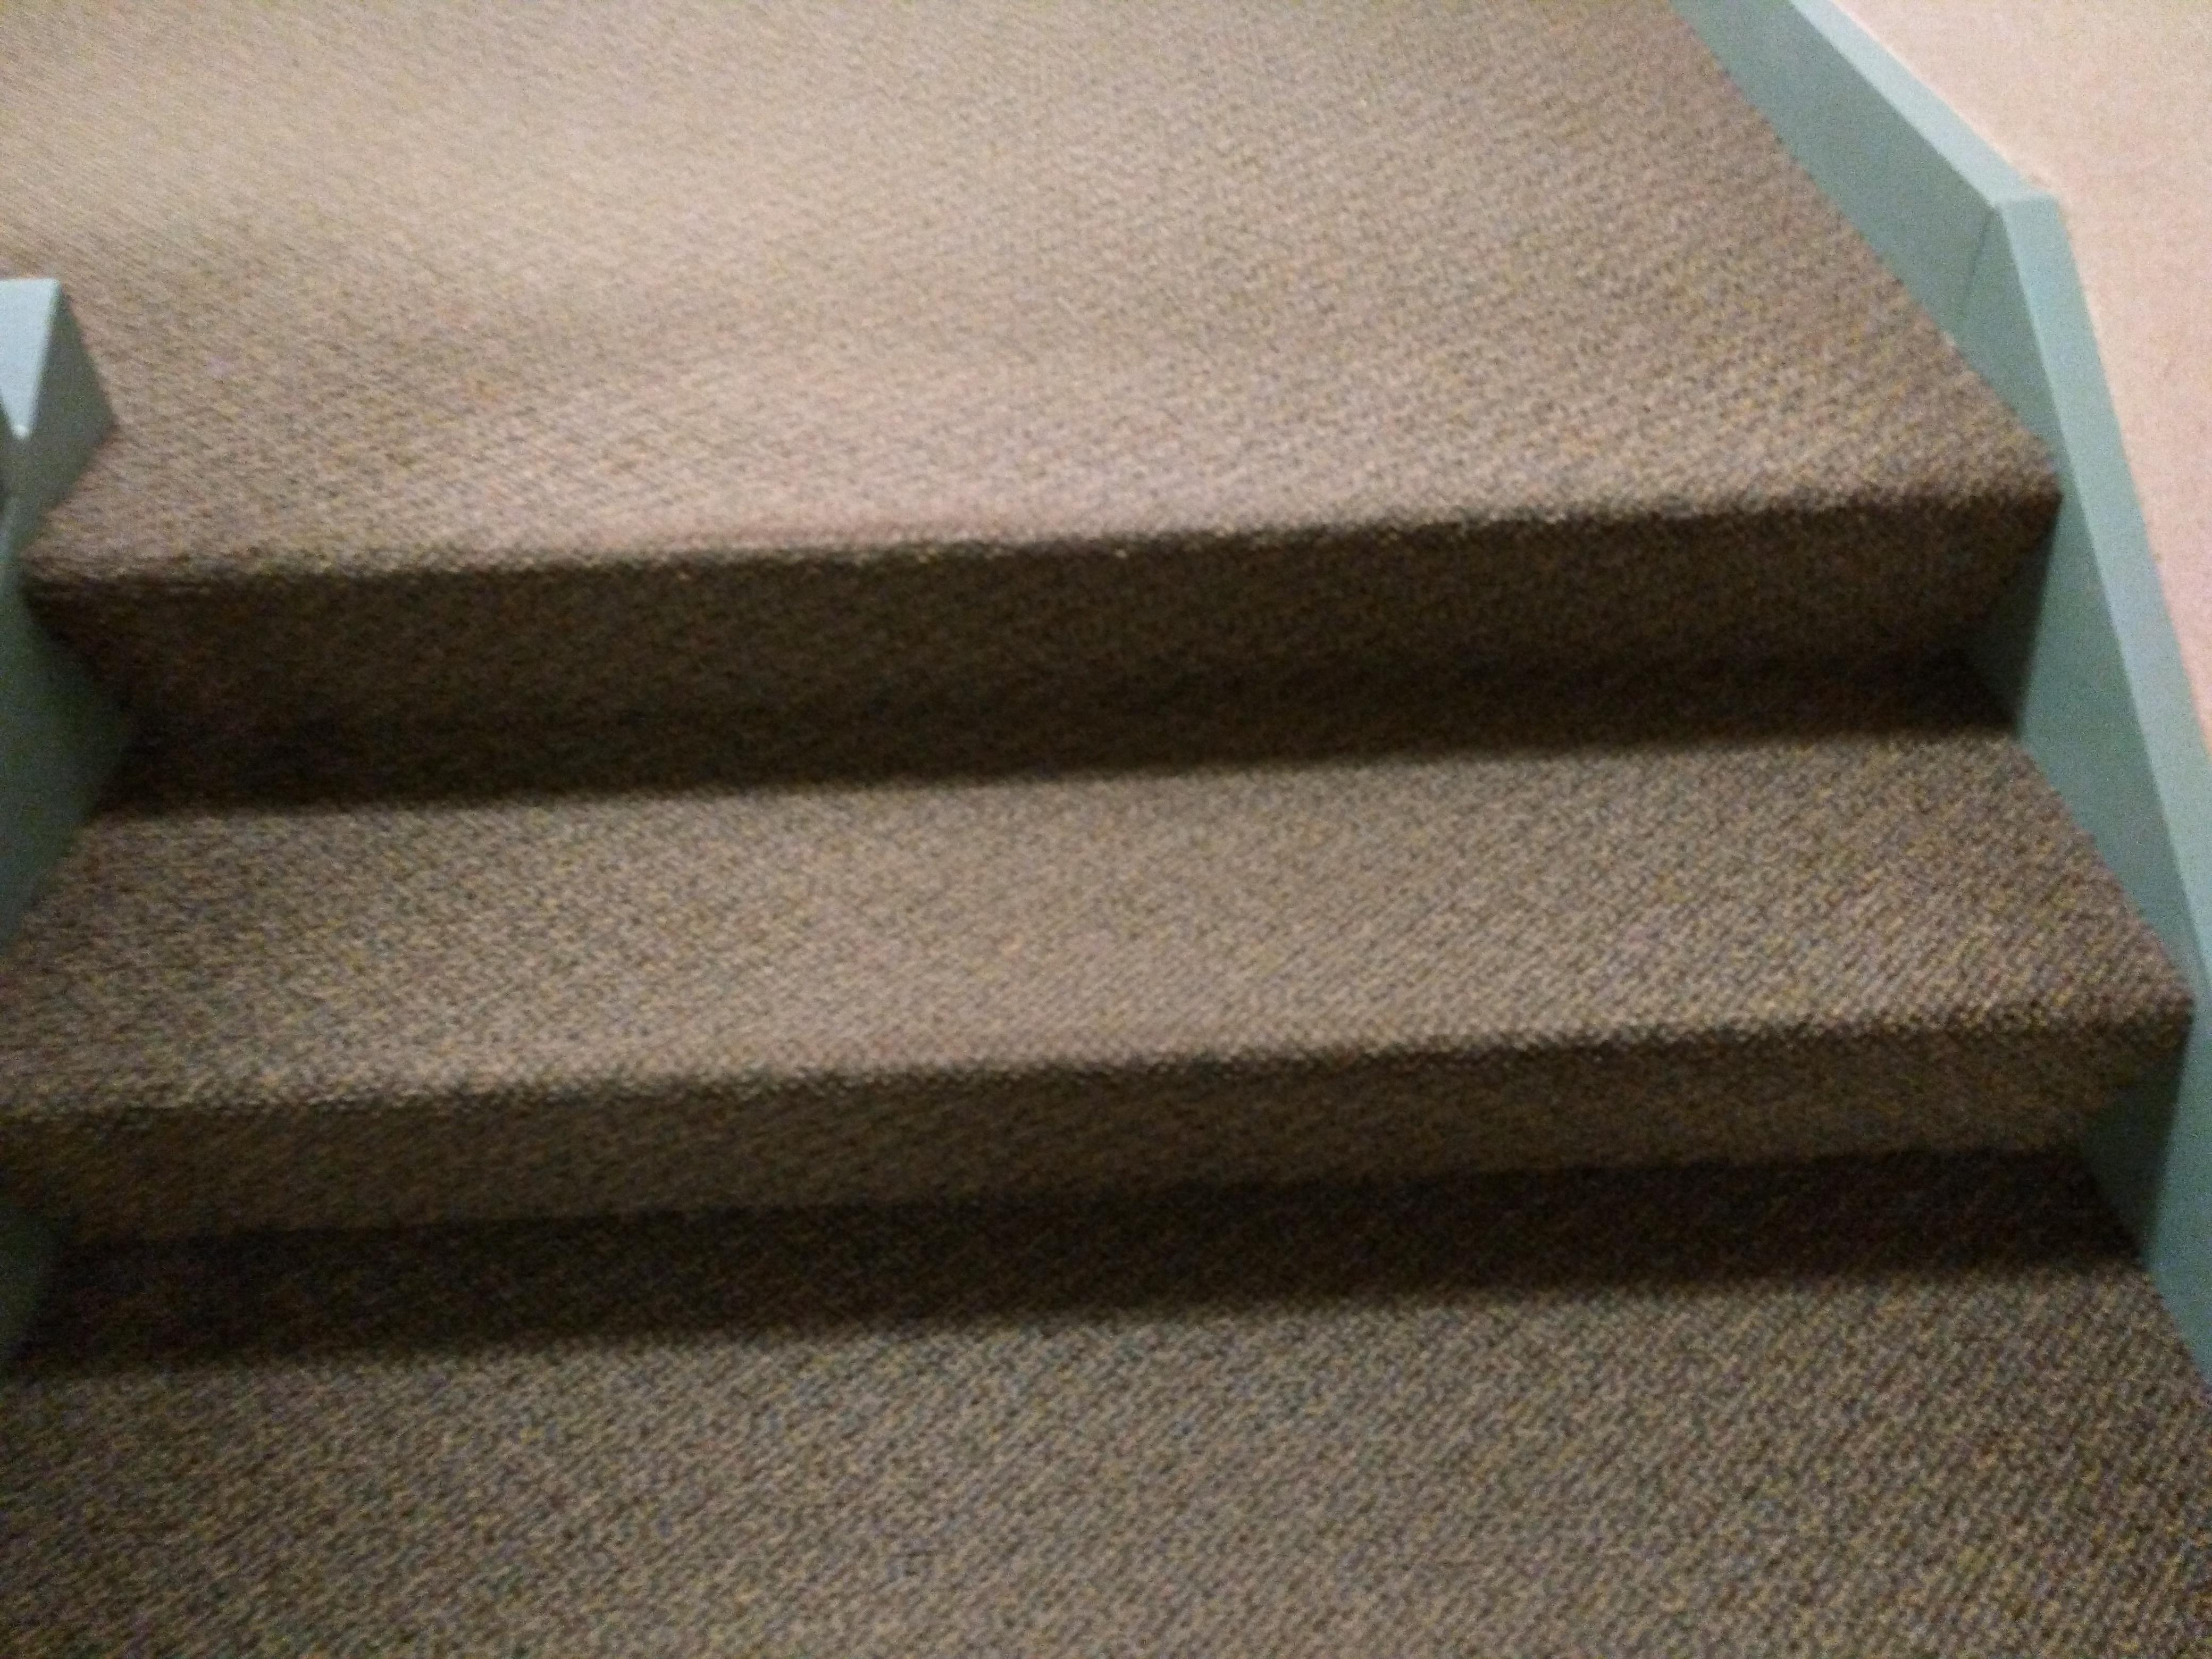stairs_up: (12, 511, 2212, 1631)
